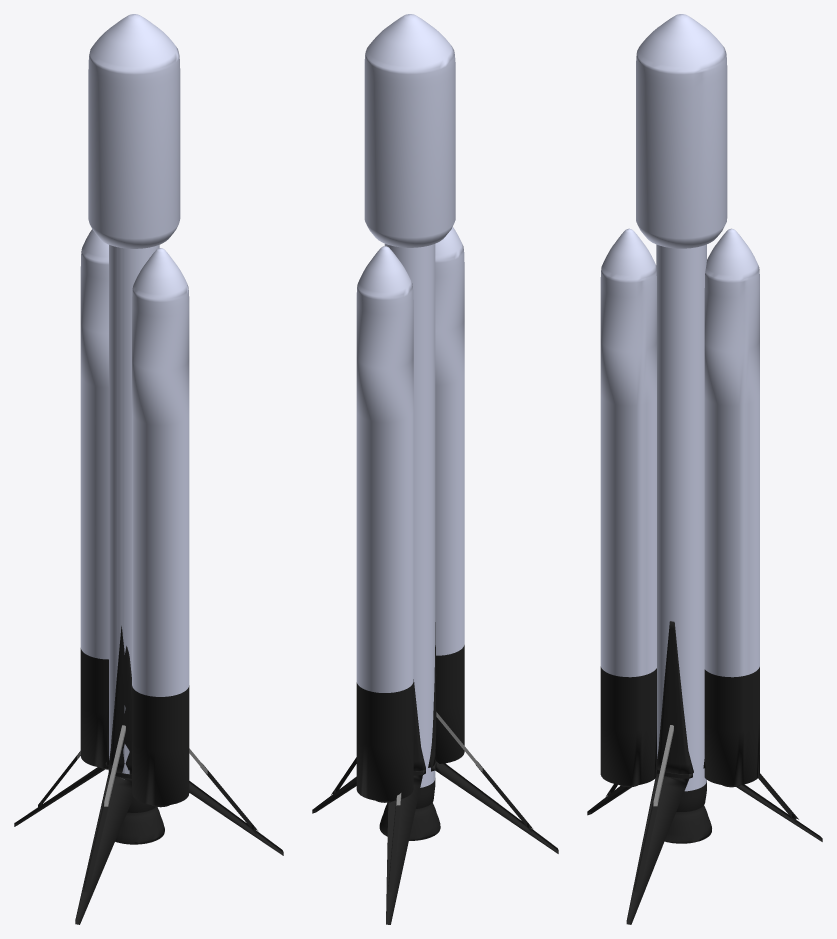
File: Rocket.glb
3 views of the same model, side by side, from view 1: azimuth 30°, elevation 25°; view 2: azimuth 150°, elevation 25°; view 3: azimuth 270°, elevation 25° (orthographic).
Parts seen in each view (by area): view 1: Rocket, Rocket.003, Rocket.002, Leg.008, Leg.003, Leg.002; view 2: Rocket, Rocket.002, Rocket.003, Leg.002, Leg.008, Leg.003; view 3: Rocket, Rocket.003, Rocket.002, Leg.003, Leg.002.
Boxes of the visible parts, left/top/right/bottom form: Rocket: left=88, top=14, right=180, bottom=844; Rocket.003: left=132, top=248, right=189, bottom=807; Rocket.002: left=80, top=229, right=108, bottom=769; Leg.008: left=75, top=626, right=133, bottom=924; Leg.003: left=189, top=748, right=283, bottom=855; Leg.002: left=14, top=693, right=109, bottom=826; Rocket: left=364, top=14, right=455, bottom=840; Rocket.002: left=356, top=246, right=413, bottom=802; Rocket.003: left=435, top=227, right=464, bottom=763; Leg.002: left=386, top=679, right=425, bottom=924; Leg.008: left=428, top=622, right=558, bottom=853; Leg.003: left=312, top=757, right=356, bottom=813; Rocket: left=636, top=14, right=727, bottom=843; Rocket.003: left=600, top=228, right=656, bottom=787; Rocket.002: left=704, top=228, right=759, bottom=787; Leg.003: left=626, top=621, right=693, bottom=924; Leg.002: left=703, top=755, right=822, bottom=841.
Size of the model in its own units: 14.01 by 50.06 by 12.55.
